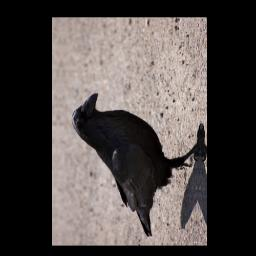Crow: (65, 89, 203, 241)
